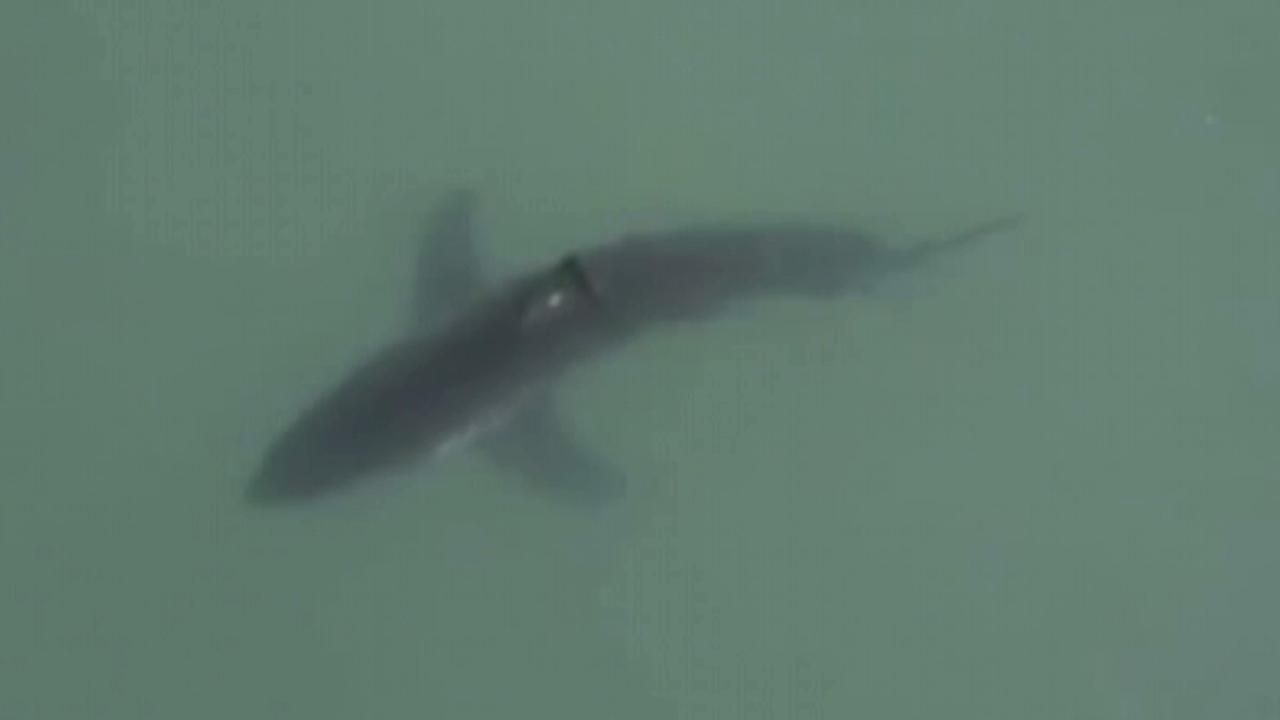shark: (212, 158, 1034, 540)
